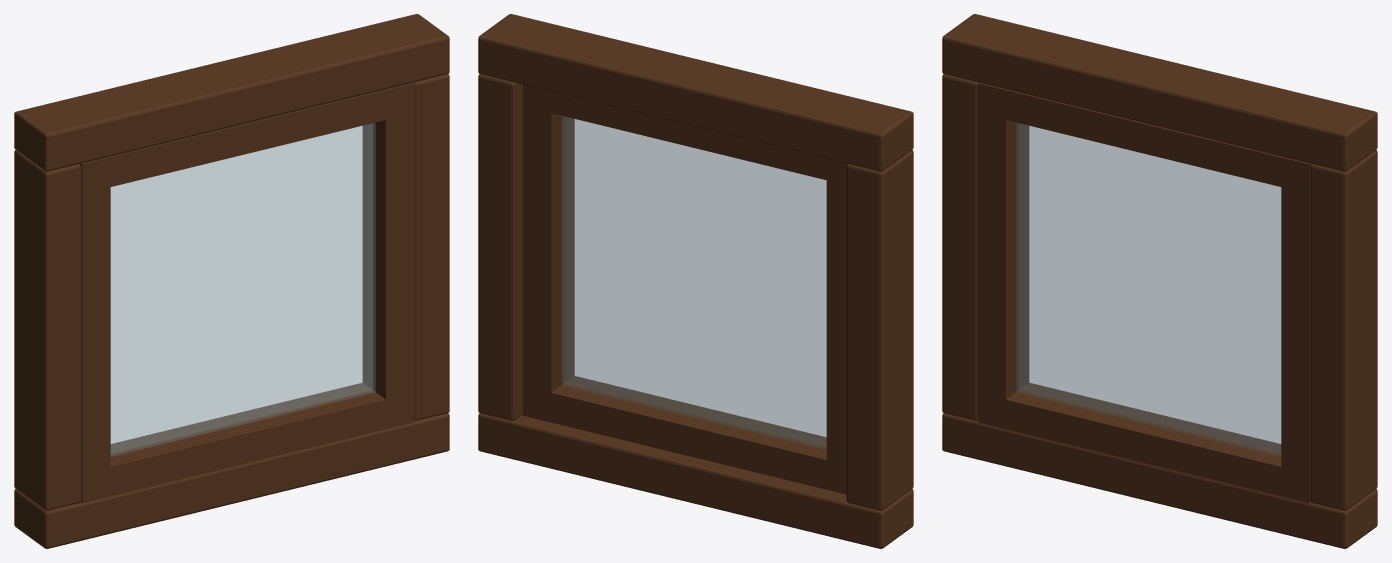
The model's file is window_frame.gltf.
3 views of the same model, side by side, from view 1: azimuth 30°, elevation 25°; view 2: azimuth 150°, elevation 25°; view 3: azimuth 330°, elevation 25° (orthographic).
Visible parts, largest first — view 1: window_frame, window_glass; view 2: window_frame, window_glass; view 3: window_frame, window_glass.
Part boxes in pixels (<box>): window_frame: <box>14,14,449,548</box>; window_glass: <box>110,123,375,456</box>; window_frame: <box>478,14,913,548</box>; window_glass: <box>562,116,826,449</box>; window_frame: <box>942,14,1377,548</box>; window_glass: <box>1016,123,1281,456</box>.
Bounding box in the file's own units: 0.5 × 0.49 × 0.07.
